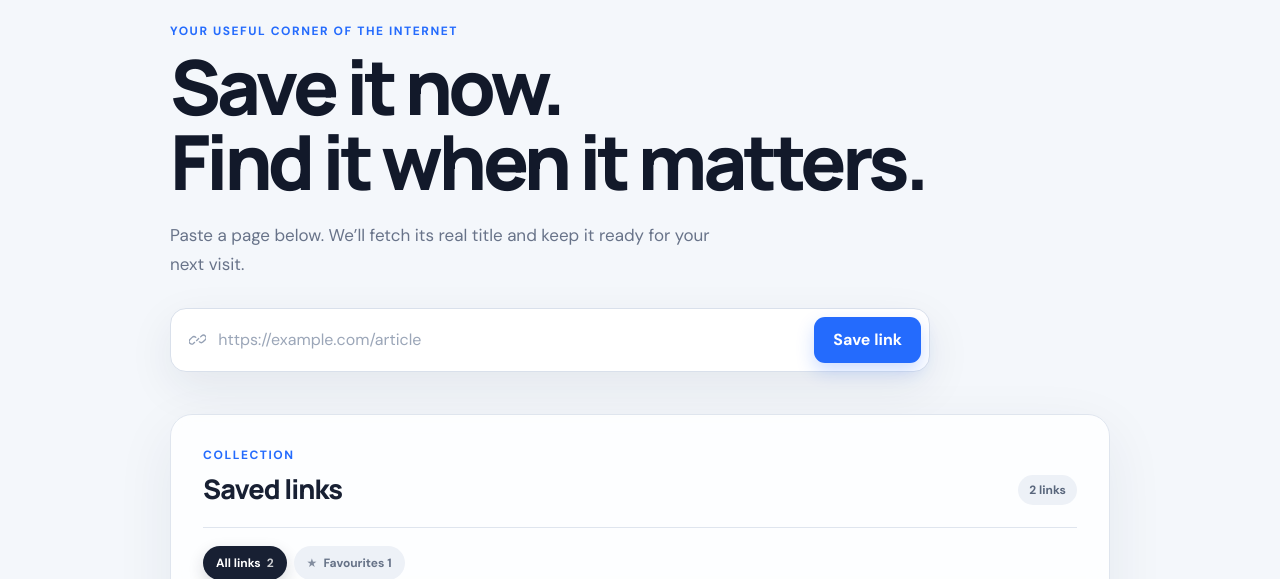
Test: App core link flow › filters favourites and removes an unstarred link from that view
The width and height of the screenshot is (1280, 579).
Click the button "★ Favourites 1".
click(349, 563)  # box [294,546,405,578]
(page scrolled)
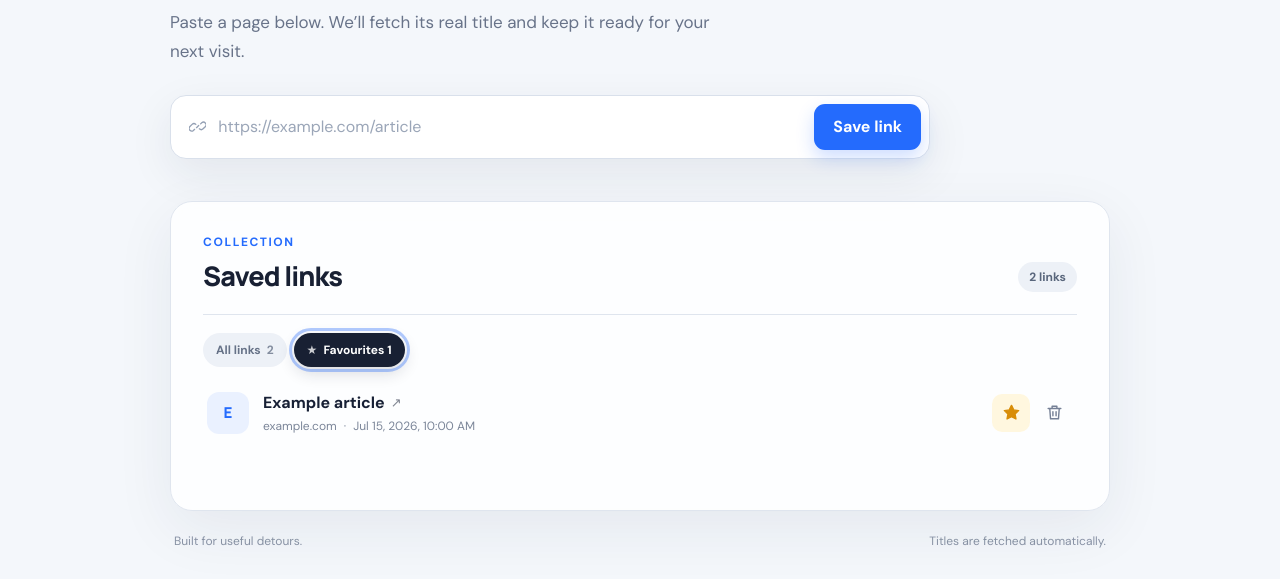
Click the button named "Remove Example article from favourites".
click(1011, 413)  # box [992,394,1030,432]
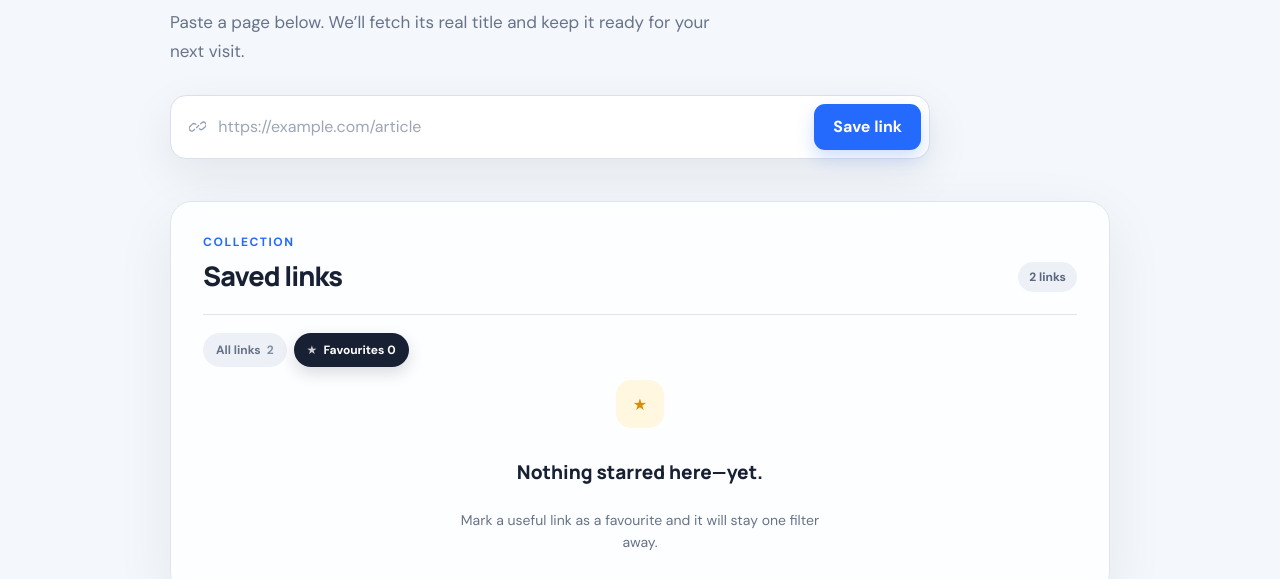
Check: the heading "Nothing starred here—yet." is shown, box [517,459,763,485]
